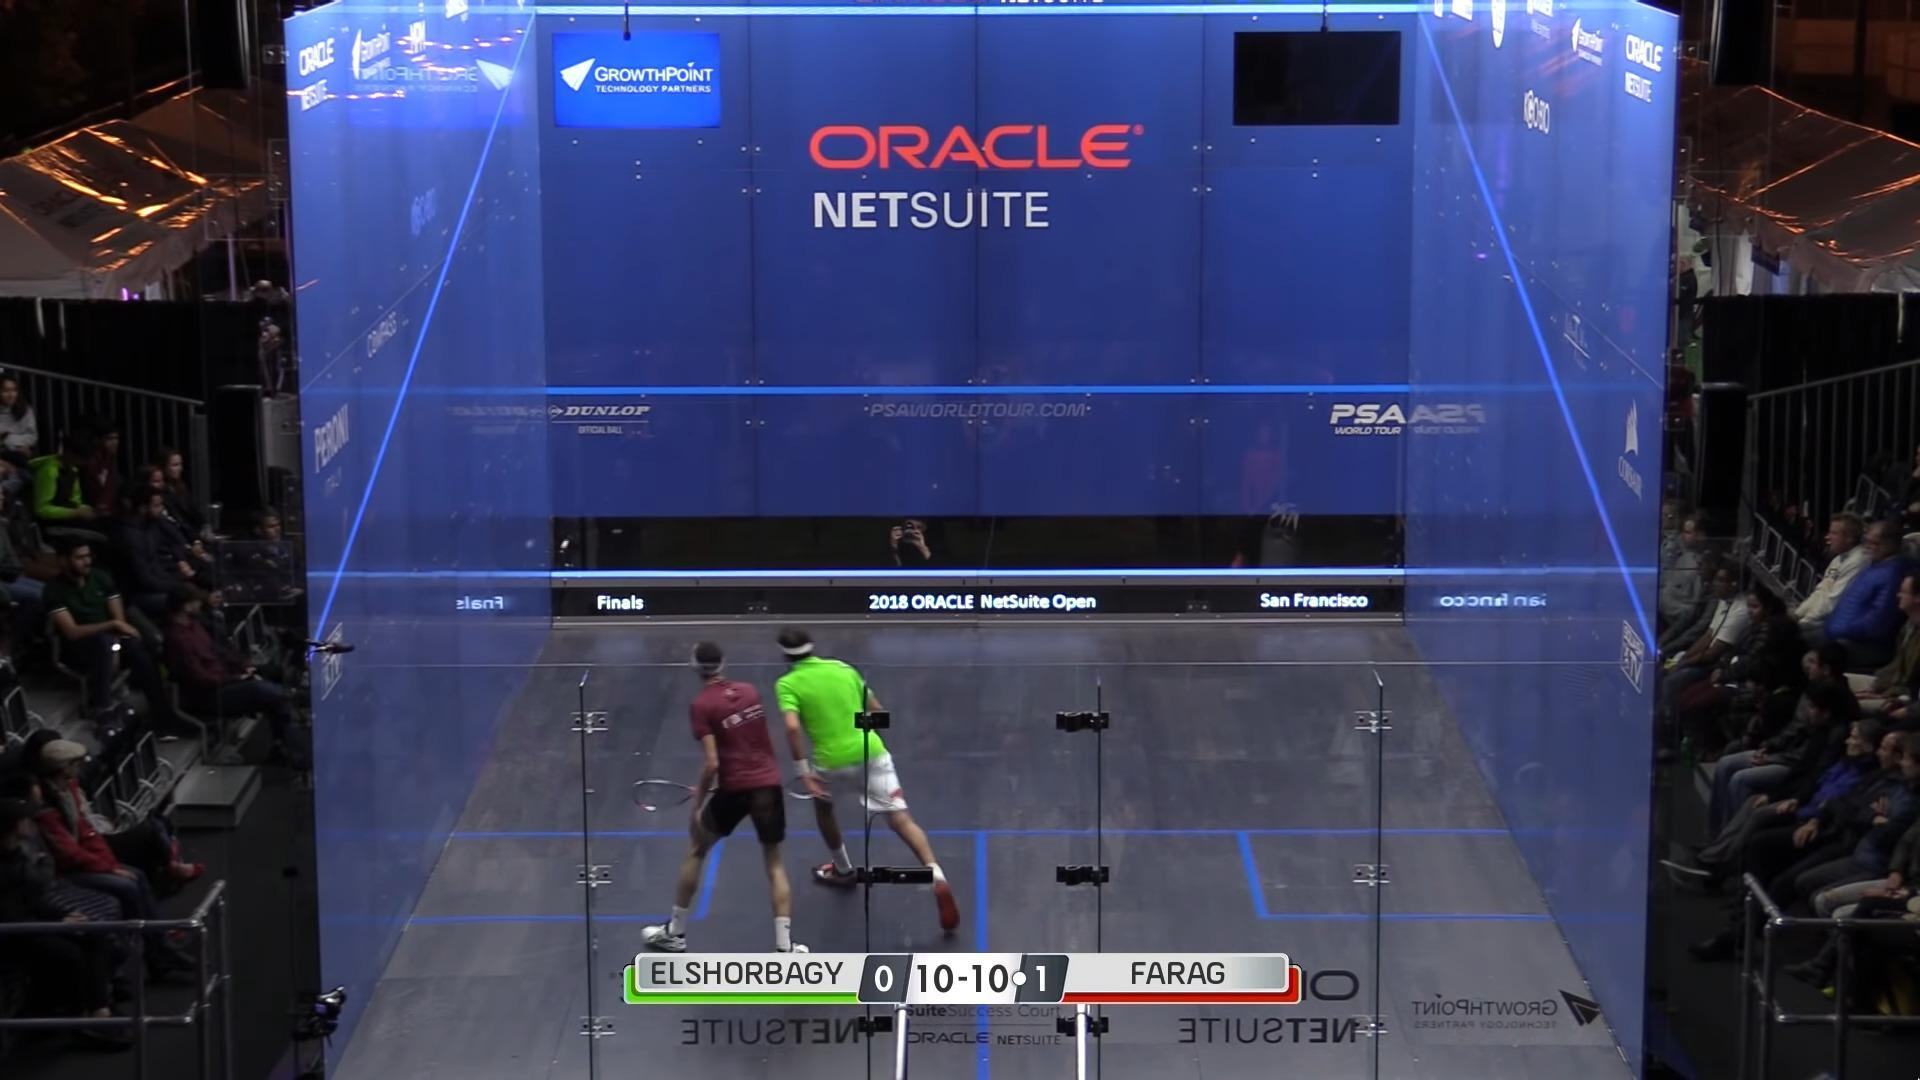Squash-Ball: (555, 531, 575, 558)
